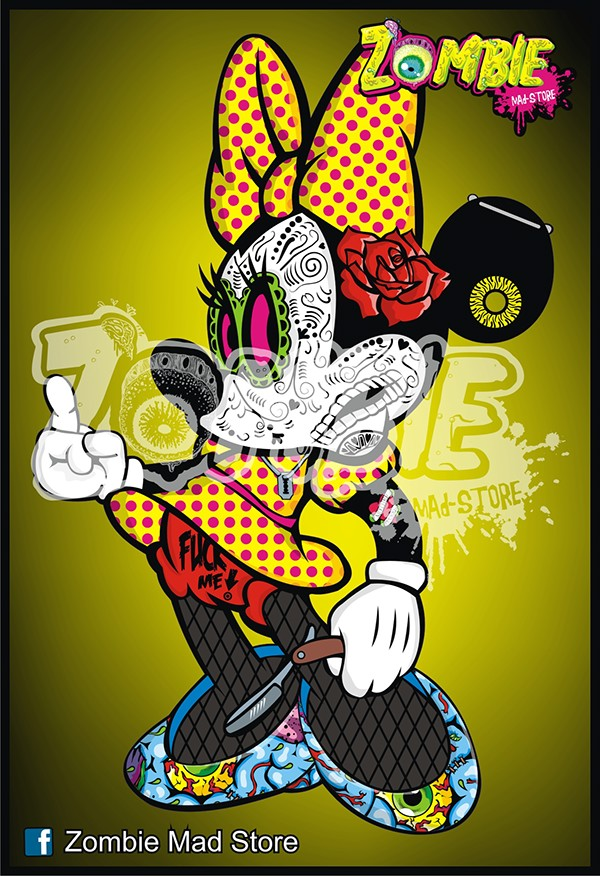bird: (41, 32, 542, 837)
